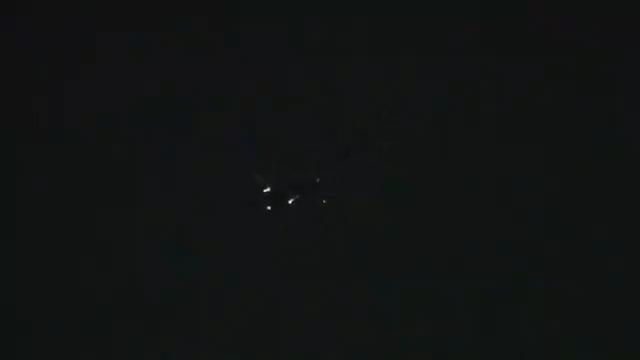Plane: (240, 177, 312, 222)
